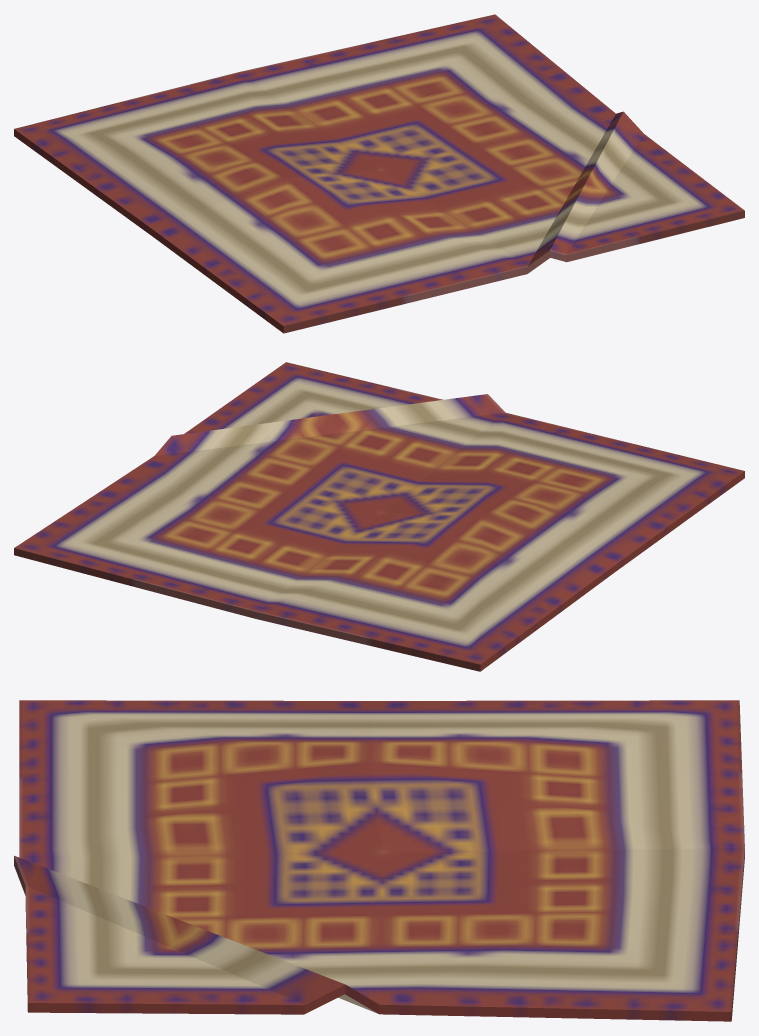
The model's file is SM_Prop_Rug_05.fbx.
The picture shows the model from 3 angles, top to bottom: view 1: azimuth 30°, elevation 25°; view 2: azimuth 150°, elevation 25°; view 3: azimuth 270°, elevation 25°; orthographic projection. The views are drawn at different scales.
Visible parts, largest first — view 1: SM_Prop_Rug_05; view 2: SM_Prop_Rug_05; view 3: SM_Prop_Rug_05.
Boxes of the visible parts, box(x1,y1,x2,y2) form: SM_Prop_Rug_05: box(14, 14, 744, 333); SM_Prop_Rug_05: box(14, 362, 744, 671); SM_Prop_Rug_05: box(14, 700, 744, 1021).
Size of the model in its own units: 232 by 11.99 by 229.
